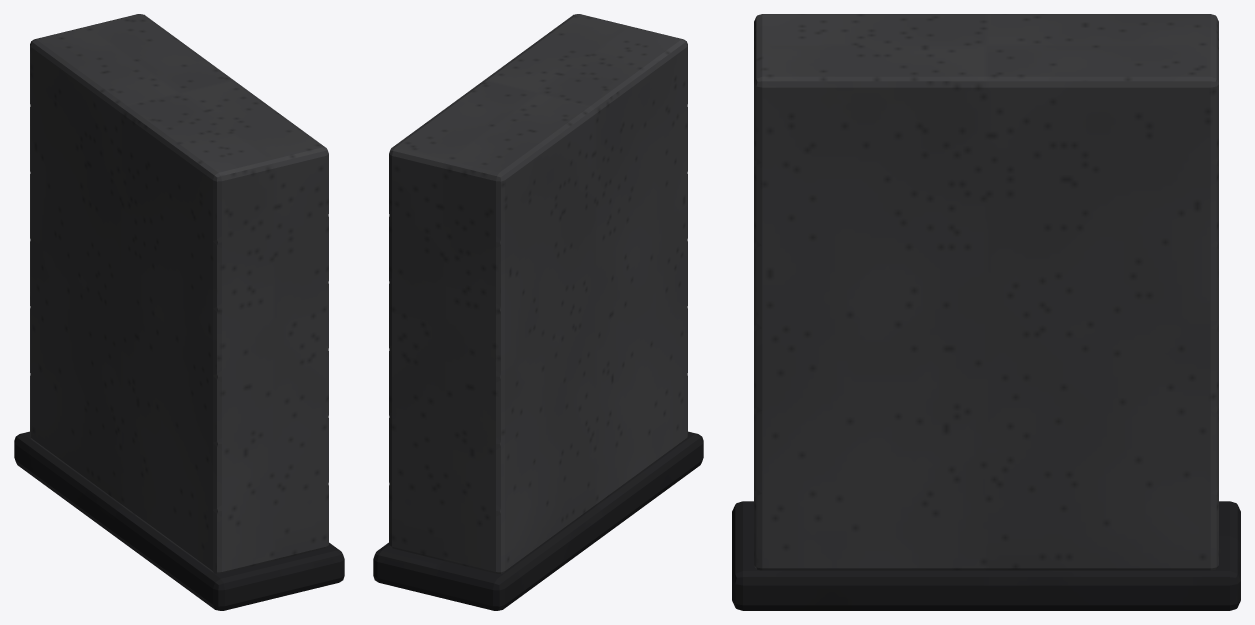
Rendered from mag_ext_sniper.glb.
The picture shows the model from 3 angles, left to right: view 1: azimuth 30°, elevation 25°; view 2: azimuth 150°, elevation 25°; view 3: azimuth 270°, elevation 25°; orthographic projection. The views are drawn at different scales.
Visible parts, largest first — view 1: mag, mag_base; view 2: mag, mag_base; view 3: mag, mag_base.
Part boxes in pixels (left/top/right/bottom): mag: left=30, top=14, right=328, bottom=573; mag_base: left=14, top=431, right=344, bottom=610; mag: left=389, top=14, right=687, bottom=573; mag_base: left=373, top=431, right=703, bottom=610; mag: left=754, top=14, right=1218, bottom=570; mag_base: left=732, top=501, right=1240, bottom=610.
Bounding box in the file's own units: 0.034 × 0.107 × 0.093.
2 materials, 2 textured.
